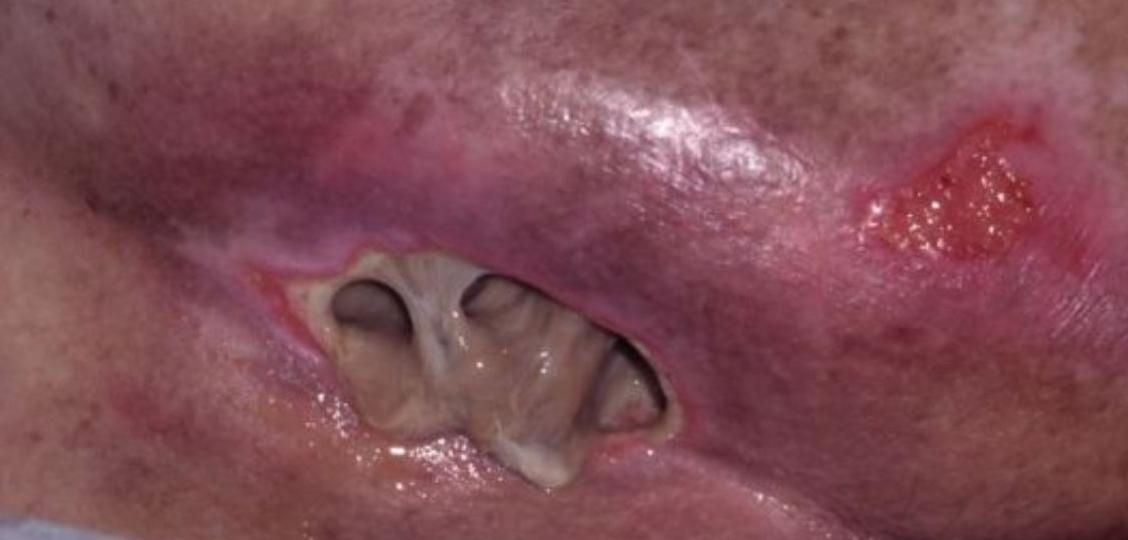Stage4: (153, 195, 680, 476)
